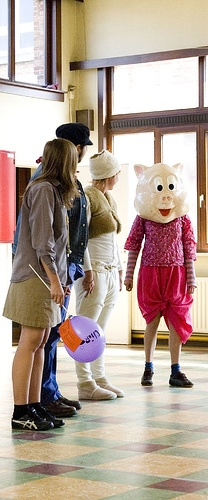head: (41, 140, 78, 186), (90, 150, 123, 192), (58, 121, 91, 160)
person: (1, 134, 92, 427), (122, 162, 195, 388), (63, 142, 125, 408)
